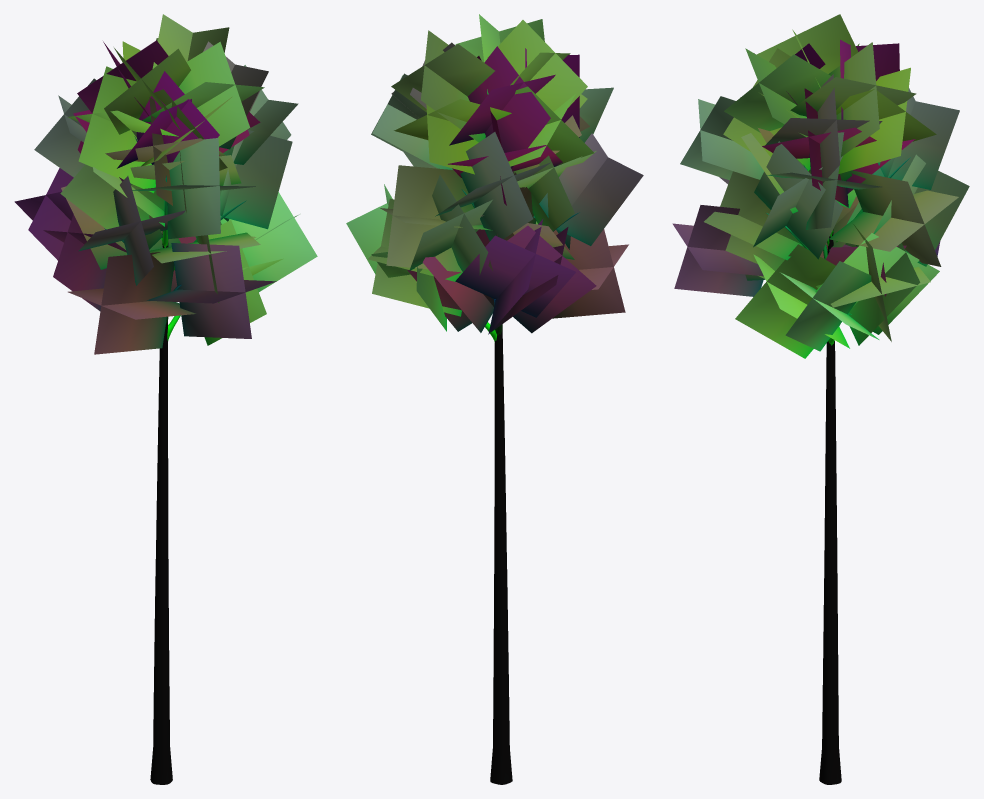
File: URP_P5_Tree_4_LOD_1.fbx
3 views of the same model, side by side, from view 1: azimuth 30°, elevation 25°; view 2: azimuth 150°, elevation 25°; view 3: azimuth 270°, elevation 25° (orthographic).
Visible parts, largest first — view 1: Tree_4_LOD_1; view 2: Tree_4_LOD_1; view 3: Tree_4_LOD_1.
Boxes of the visible parts, x1=… form: Tree_4_LOD_1: x1=14, y1=14, x2=317, y2=784; Tree_4_LOD_1: x1=346, y1=14, x2=643, y2=784; Tree_4_LOD_1: x1=672, y1=14, x2=969, y2=784.
Size of the model in its own units: 250 by 708 by 254.
